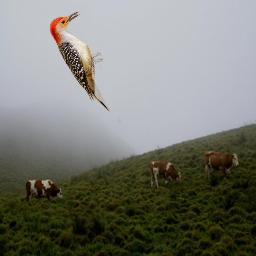Woodpecker: (49, 11, 110, 113)
